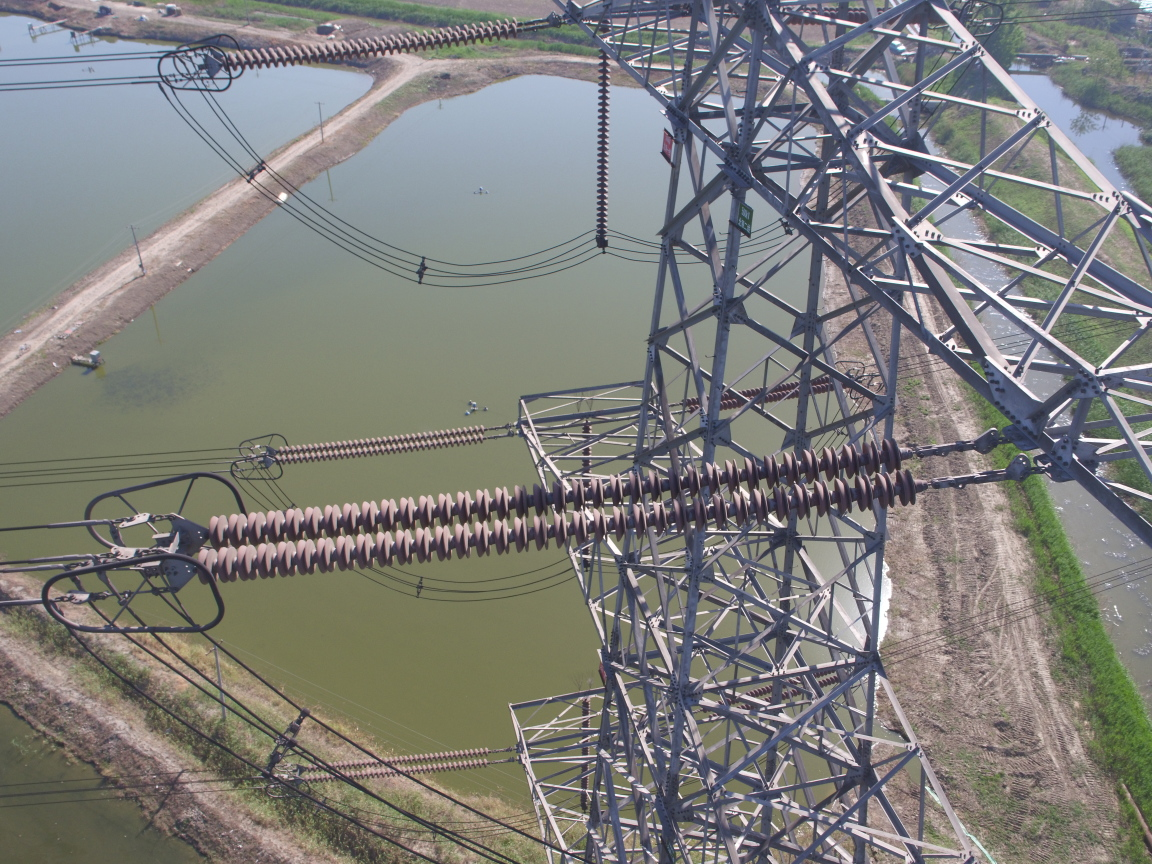insulator: (183, 434, 961, 584), (225, 16, 524, 72), (271, 422, 502, 466), (297, 745, 502, 787)
